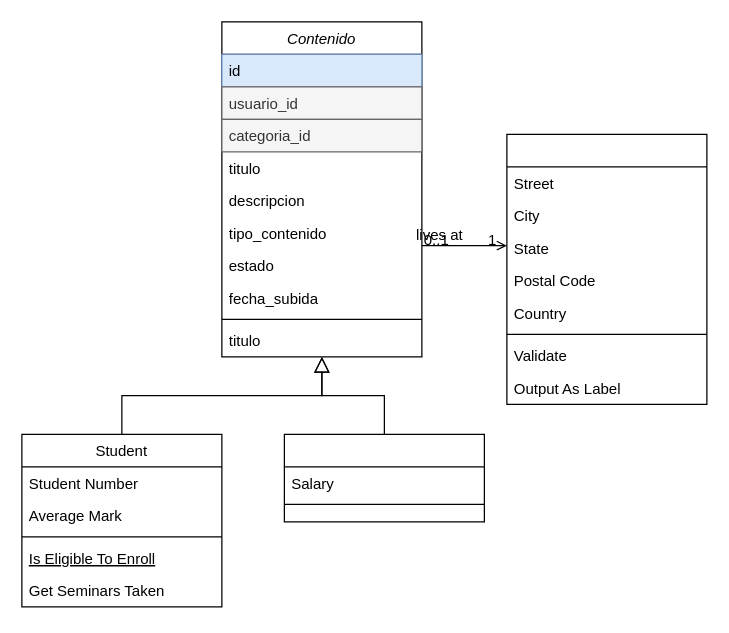
Image size: 729x633. Some labels were removed from this diagram. Each missing label, with the box of its shape:
Address: (506, 133, 707, 404)
Professor: (283, 433, 484, 522)
